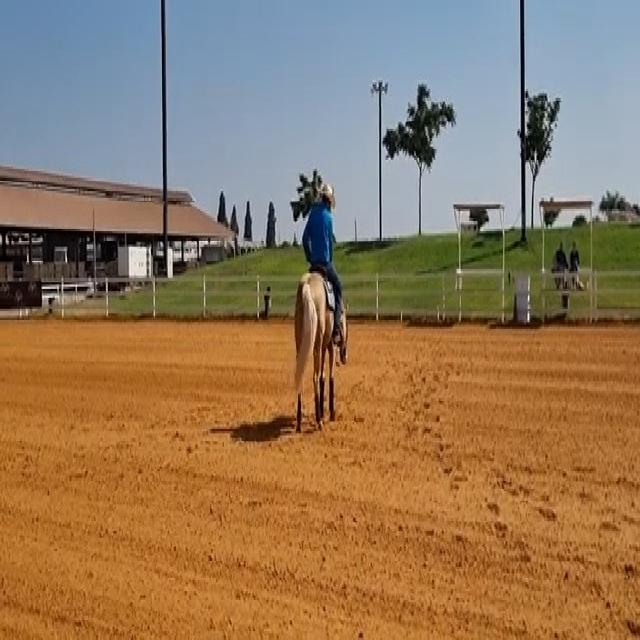horse: (292, 267, 341, 433)
